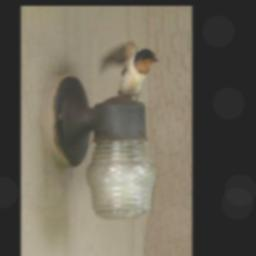Swallow: (99, 39, 159, 101)
